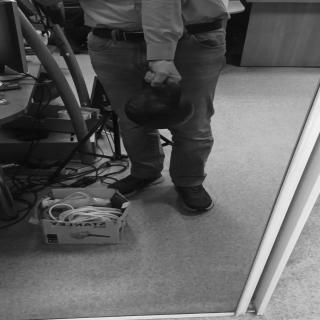girya: (125, 73, 198, 130)
